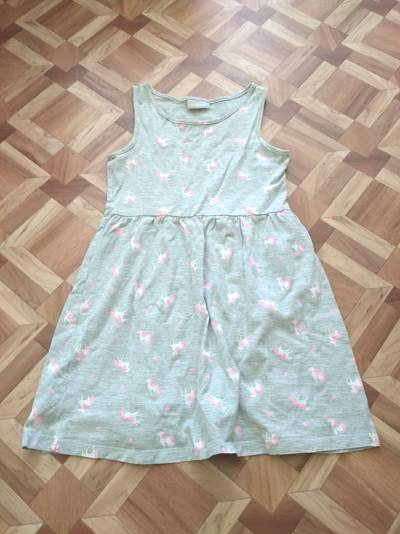Dress: (13, 44, 393, 480)
